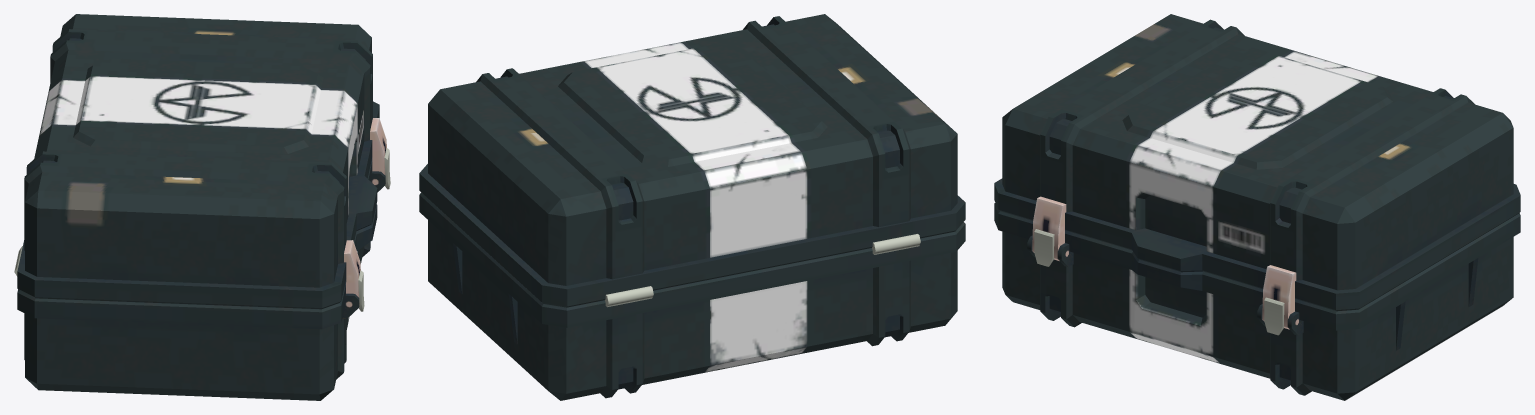
Rendered from AirSupply (5).fbx.
3 views of the same model, side by side, from view 1: azimuth 30°, elevation 25°; view 2: azimuth 150°, elevation 25°; view 3: azimuth 270°, elevation 25° (orthographic). The views are drawn at different scales.
Visible parts, largest first — view 1: Box_upper, Crate, Lock_R_01 1, Lock_L_01 1; view 2: Box_upper, Crate; view 3: Box_upper, Crate, Lock_L_01 1, Lock_R_01 1, Lock_R_02 1, Lock_L_02 1.
Part boxes in pixels (x1,y1,x2,y2): Box_upper: (14, 14, 379, 309); Crate: (17, 158, 385, 400); Lock_R_01 1: (370, 118, 386, 174); Lock_L_01 1: (344, 240, 360, 303); Box_upper: (419, 14, 965, 307); Crate: (419, 192, 965, 400); Box_upper: (994, 14, 1520, 311); Crate: (994, 203, 1520, 400); Lock_L_01 1: (1032, 196, 1066, 260); Lock_R_01 1: (1262, 265, 1296, 329); Lock_R_02 1: (1264, 297, 1284, 335); Lock_L_02 1: (1034, 229, 1054, 266).
Bounding box in the file's own units: 1.51 × 0.682 × 1.6.
Materials: 2 (2 with a texture image).
